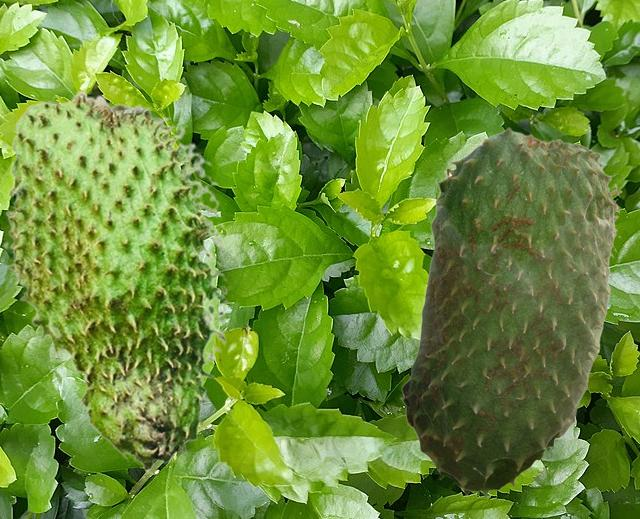guyabano: (2, 89, 230, 471), (399, 126, 621, 497)
